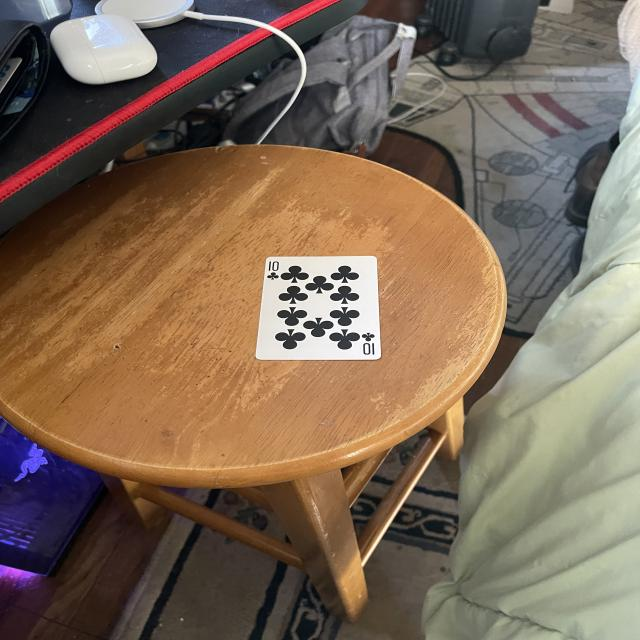10 of clubs: (244, 250, 396, 368)
